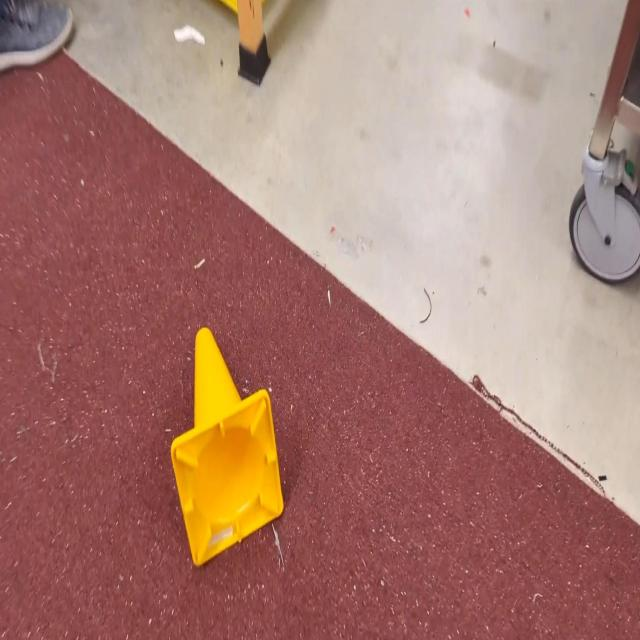frc_cone: (170, 327, 284, 565)
